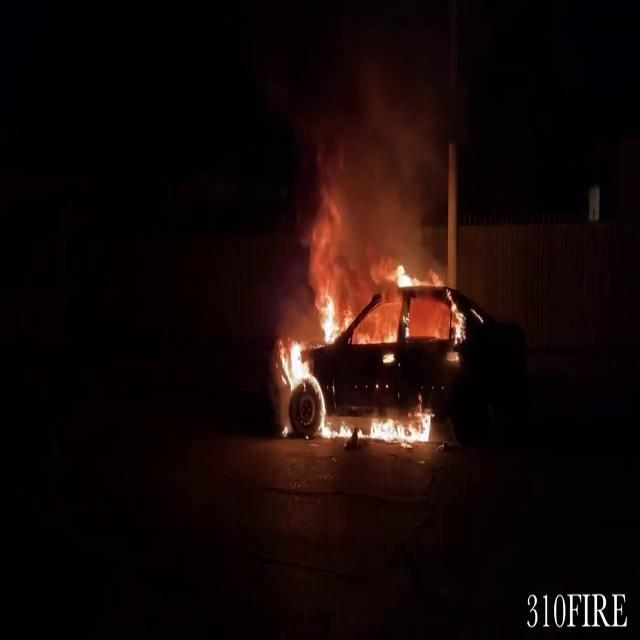Fire: (277, 292, 347, 442), (314, 247, 421, 343), (344, 400, 438, 450)
Smoke: (302, 0, 467, 244)
